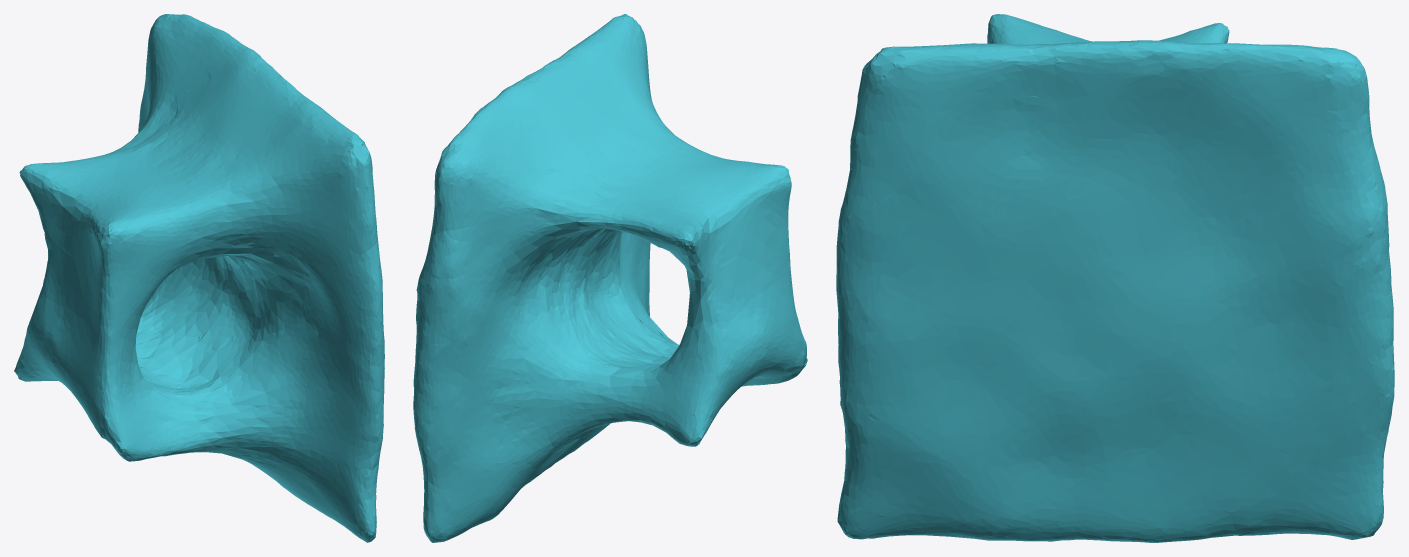
The picture shows the model from 3 angles, left to right: view 1: azimuth 30°, elevation 25°; view 2: azimuth 150°, elevation 25°; view 3: azimuth 270°, elevation 25°; orthographic projection. The views are drawn at different scales.
Visible parts, largest first — view 1: Renderer Node; view 2: Renderer Node; view 3: Renderer Node.
Boxes of the visible parts, x1=… form: Renderer Node: x1=14, y1=14, x2=384, y2=542; Renderer Node: x1=413, y1=14, x2=807, y2=542; Renderer Node: x1=836, y1=14, x2=1394, y2=542.
Bounding box in the file's own units: 0.3942 × 0.6279 × 0.6319.
1 material, 1 textured.
